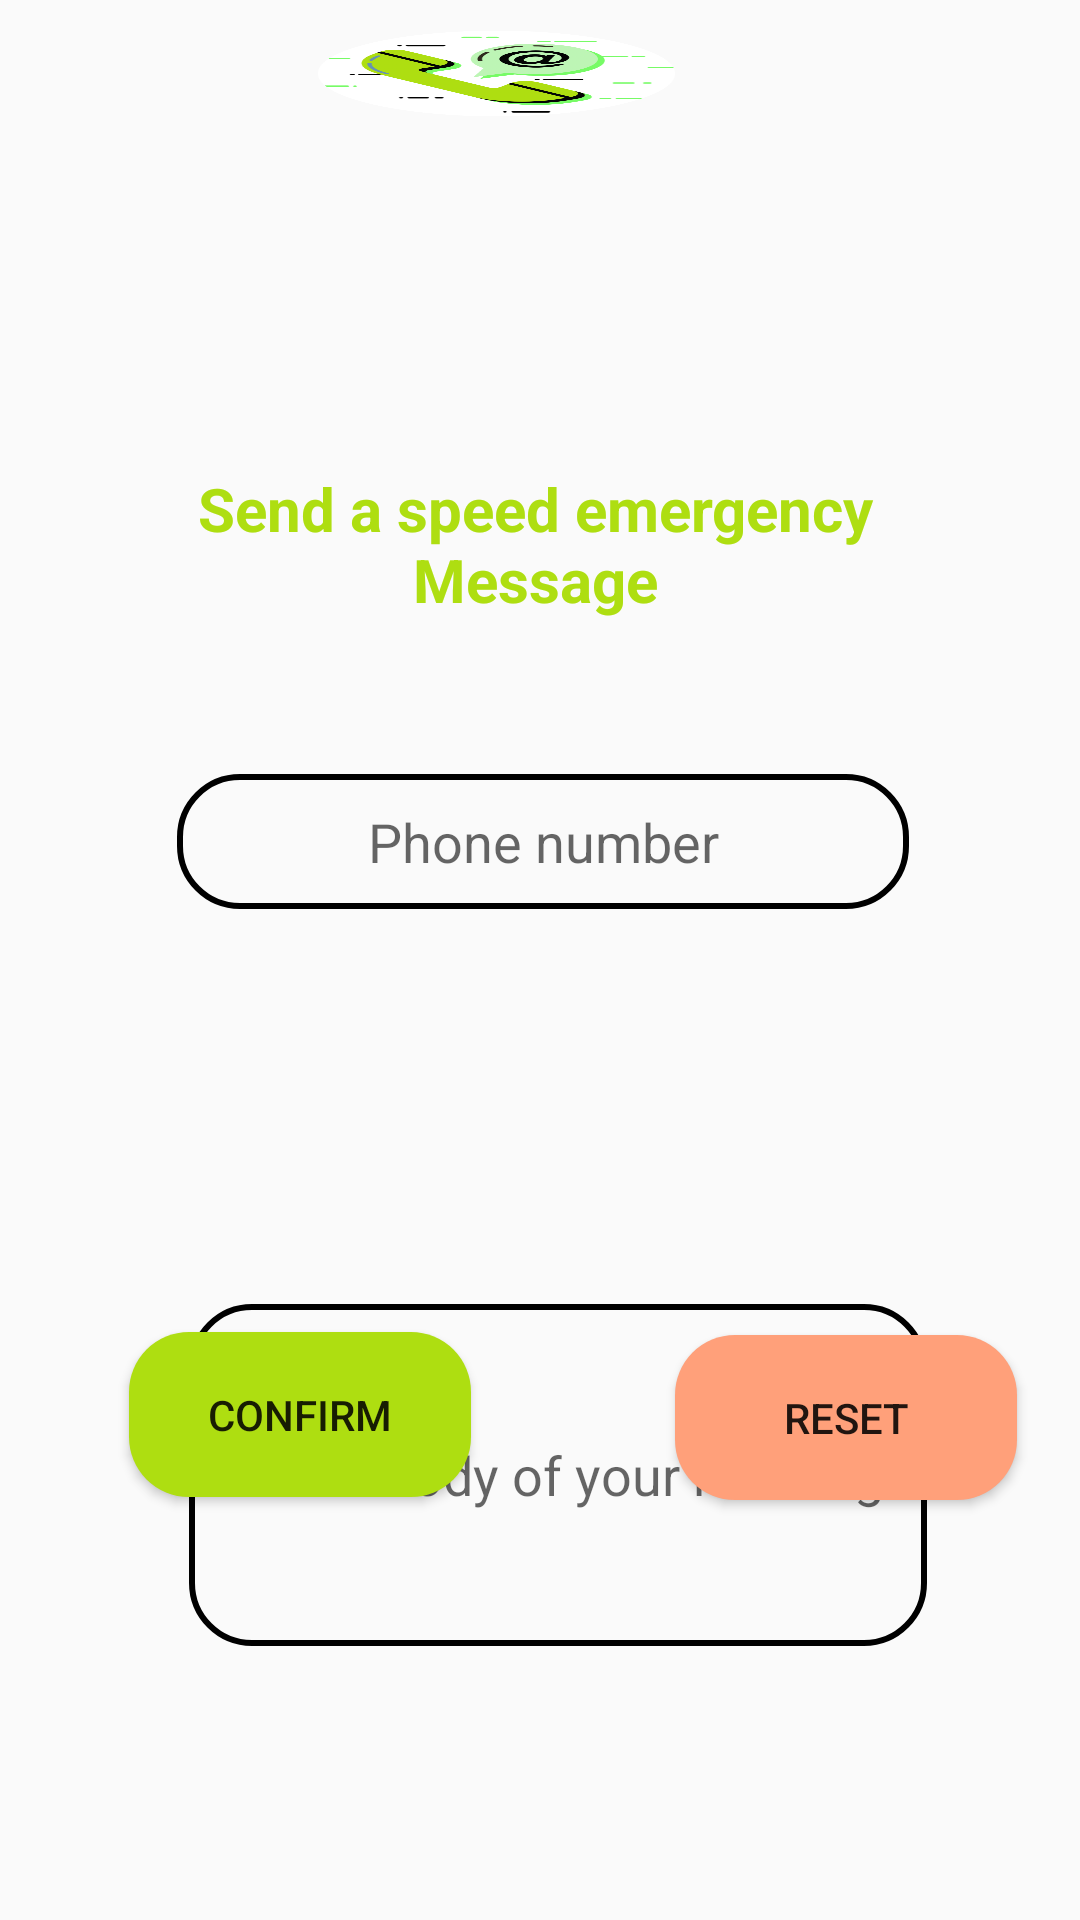

Named icons in this screenshot (1080×1920) and their centers, [x,y]:
contact: [499,75]
